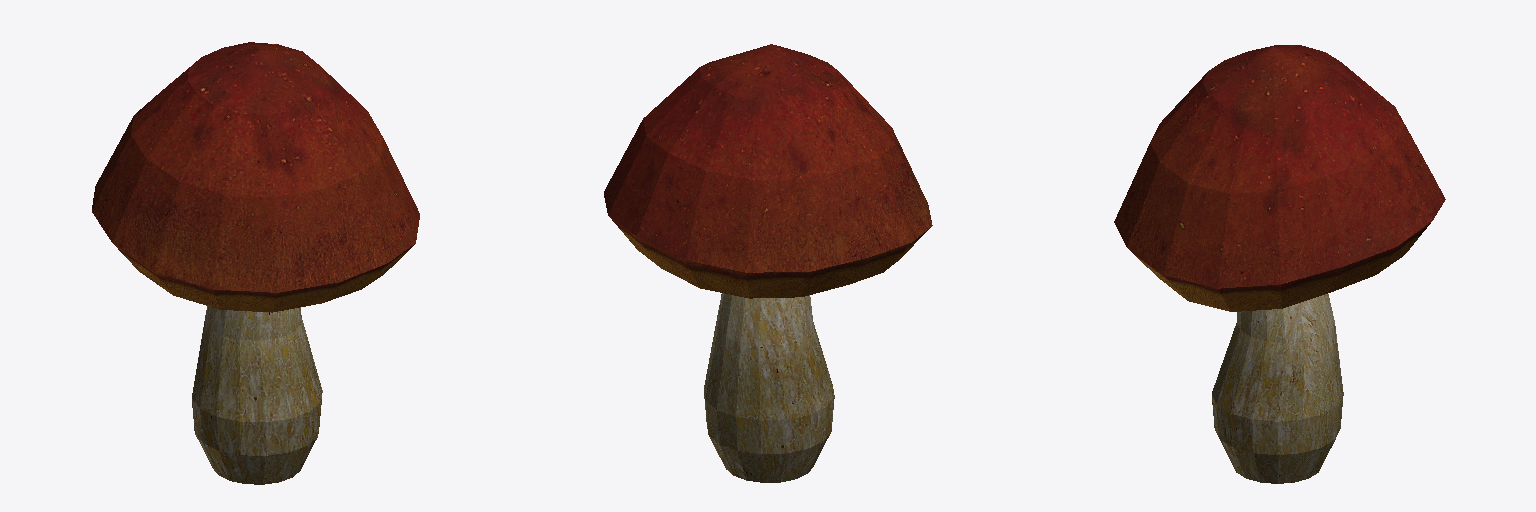
3 renders of one model, left to right at view 1: azimuth 30°, elevation 25°; view 2: azimuth 150°, elevation 25°; view 3: azimuth 270°, elevation 25°, orthographic.
Parts seen in each view (by area): view 1: meshtubeB; view 2: meshtubeB; view 3: meshtubeB.
Part boxes in pixels (left/top/right/bottom): meshtubeB: left=92, top=42, right=419, bottom=484; meshtubeB: left=604, top=44, right=932, bottom=482; meshtubeB: left=1114, top=45, right=1445, bottom=483.
Size of the model in its own units: 1.64 by 2.28 by 1.64.
Materials: 1 (1 with a texture image).